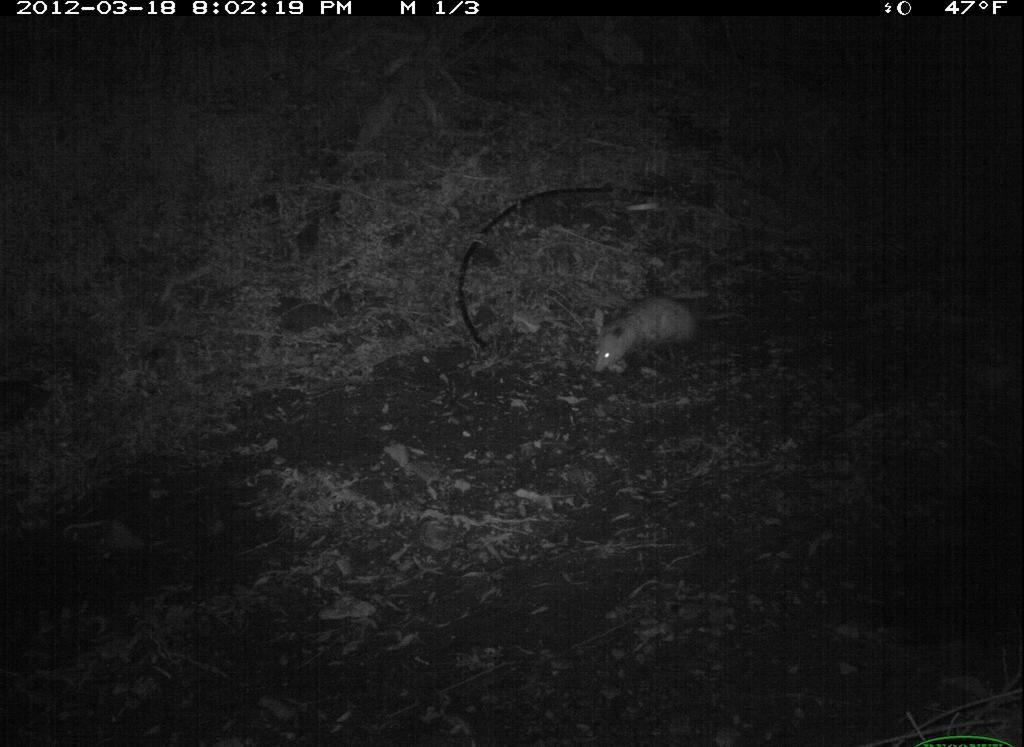opossum: (584, 286, 757, 382)
